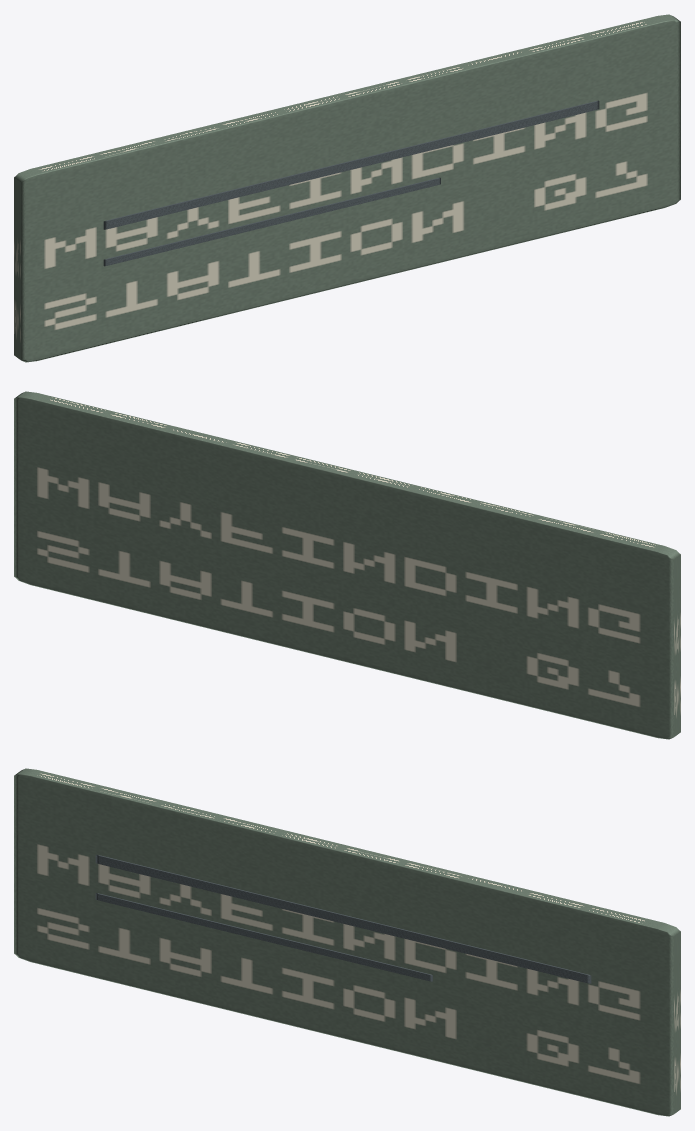
Rendered from wayfinding.glb.
3 views of the same model, one above another, from view 1: azimuth 30°, elevation 25°; view 2: azimuth 150°, elevation 25°; view 3: azimuth 330°, elevation 25° (orthographic).
Parts seen in each view (by area): view 1: board, stripe, line; view 2: board; view 3: board, stripe, line.
Boxes of the visible parts, left/top/right/bottom form: board: left=14, top=14, right=680, bottom=362; stripe: left=103, top=100, right=599, bottom=229; line: left=103, top=177, right=440, bottom=266; board: left=14, top=391, right=680, bottom=739; board: left=14, top=768, right=680, bottom=1116; stripe: left=95, top=854, right=591, bottom=983; line: left=95, top=893, right=432, bottom=981.
Bounding box in the file's own units: 0.48 × 0.13 × 0.0102.
2 materials, 2 textured.
